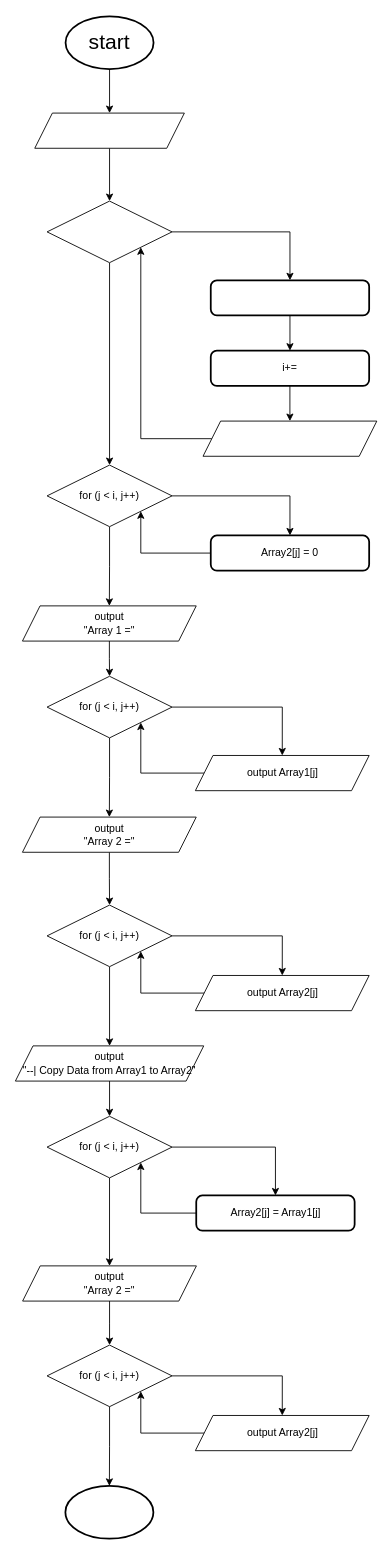
Image size: 392x1554. Some labels were removed from this diagram. Here are the shapes that lost their labels. From the top down, the box of each, then its label:
(34, 112, 184, 148): input value
(46, 200, 172, 263): while (value != -1)
(209, 279, 370, 316): Array1[i] = value
(202, 420, 377, 456): output "Input value to Array1 "[", i, "]"
(64, 1485, 154, 1539): end
